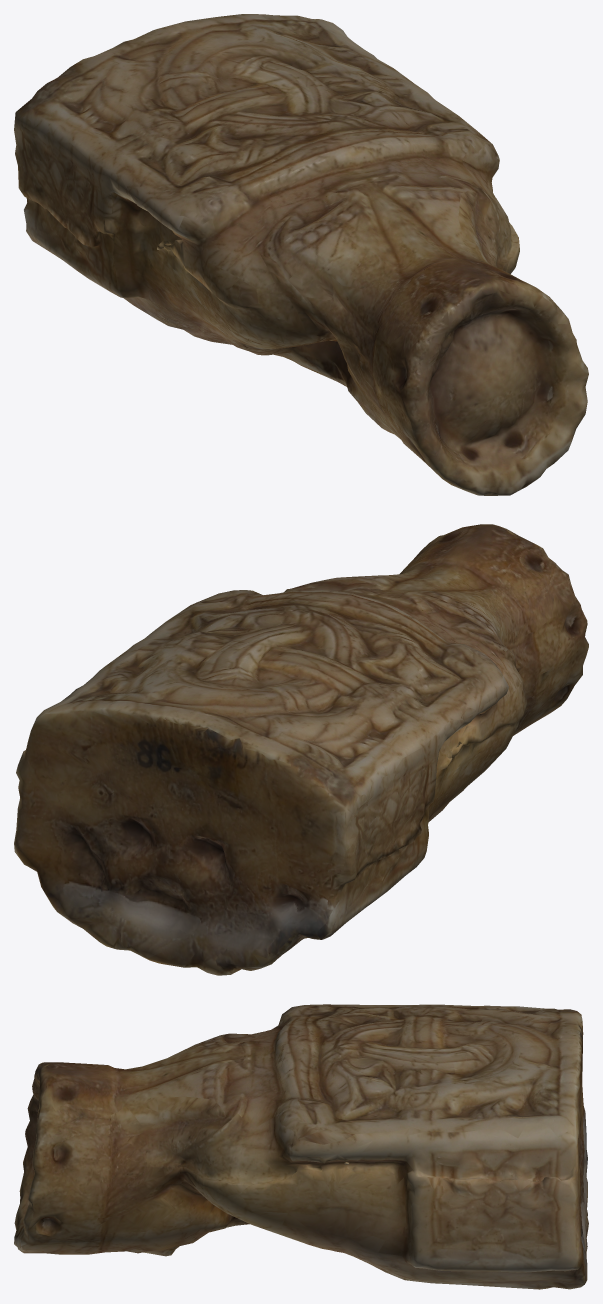
The model's file is queen1.glb.
3 views of the same model, one above another, from view 1: azimuth 30°, elevation 25°; view 2: azimuth 150°, elevation 25°; view 3: azimuth 270°, elevation 25° (orthographic). The views are drawn at different scales.
Visible parts, largest first — view 1: queen_2_lewis86; view 2: queen_2_lewis86; view 3: queen_2_lewis86.
Boxes of the visible parts, x1,y1,x2,y2 form: queen_2_lewis86: (14, 14, 588, 495); queen_2_lewis86: (14, 524, 588, 975); queen_2_lewis86: (14, 1004, 588, 1289).
Size of the model in its own units: 2.27 by 1.61 by 3.85.
Materials: 1 (1 with a texture image).
